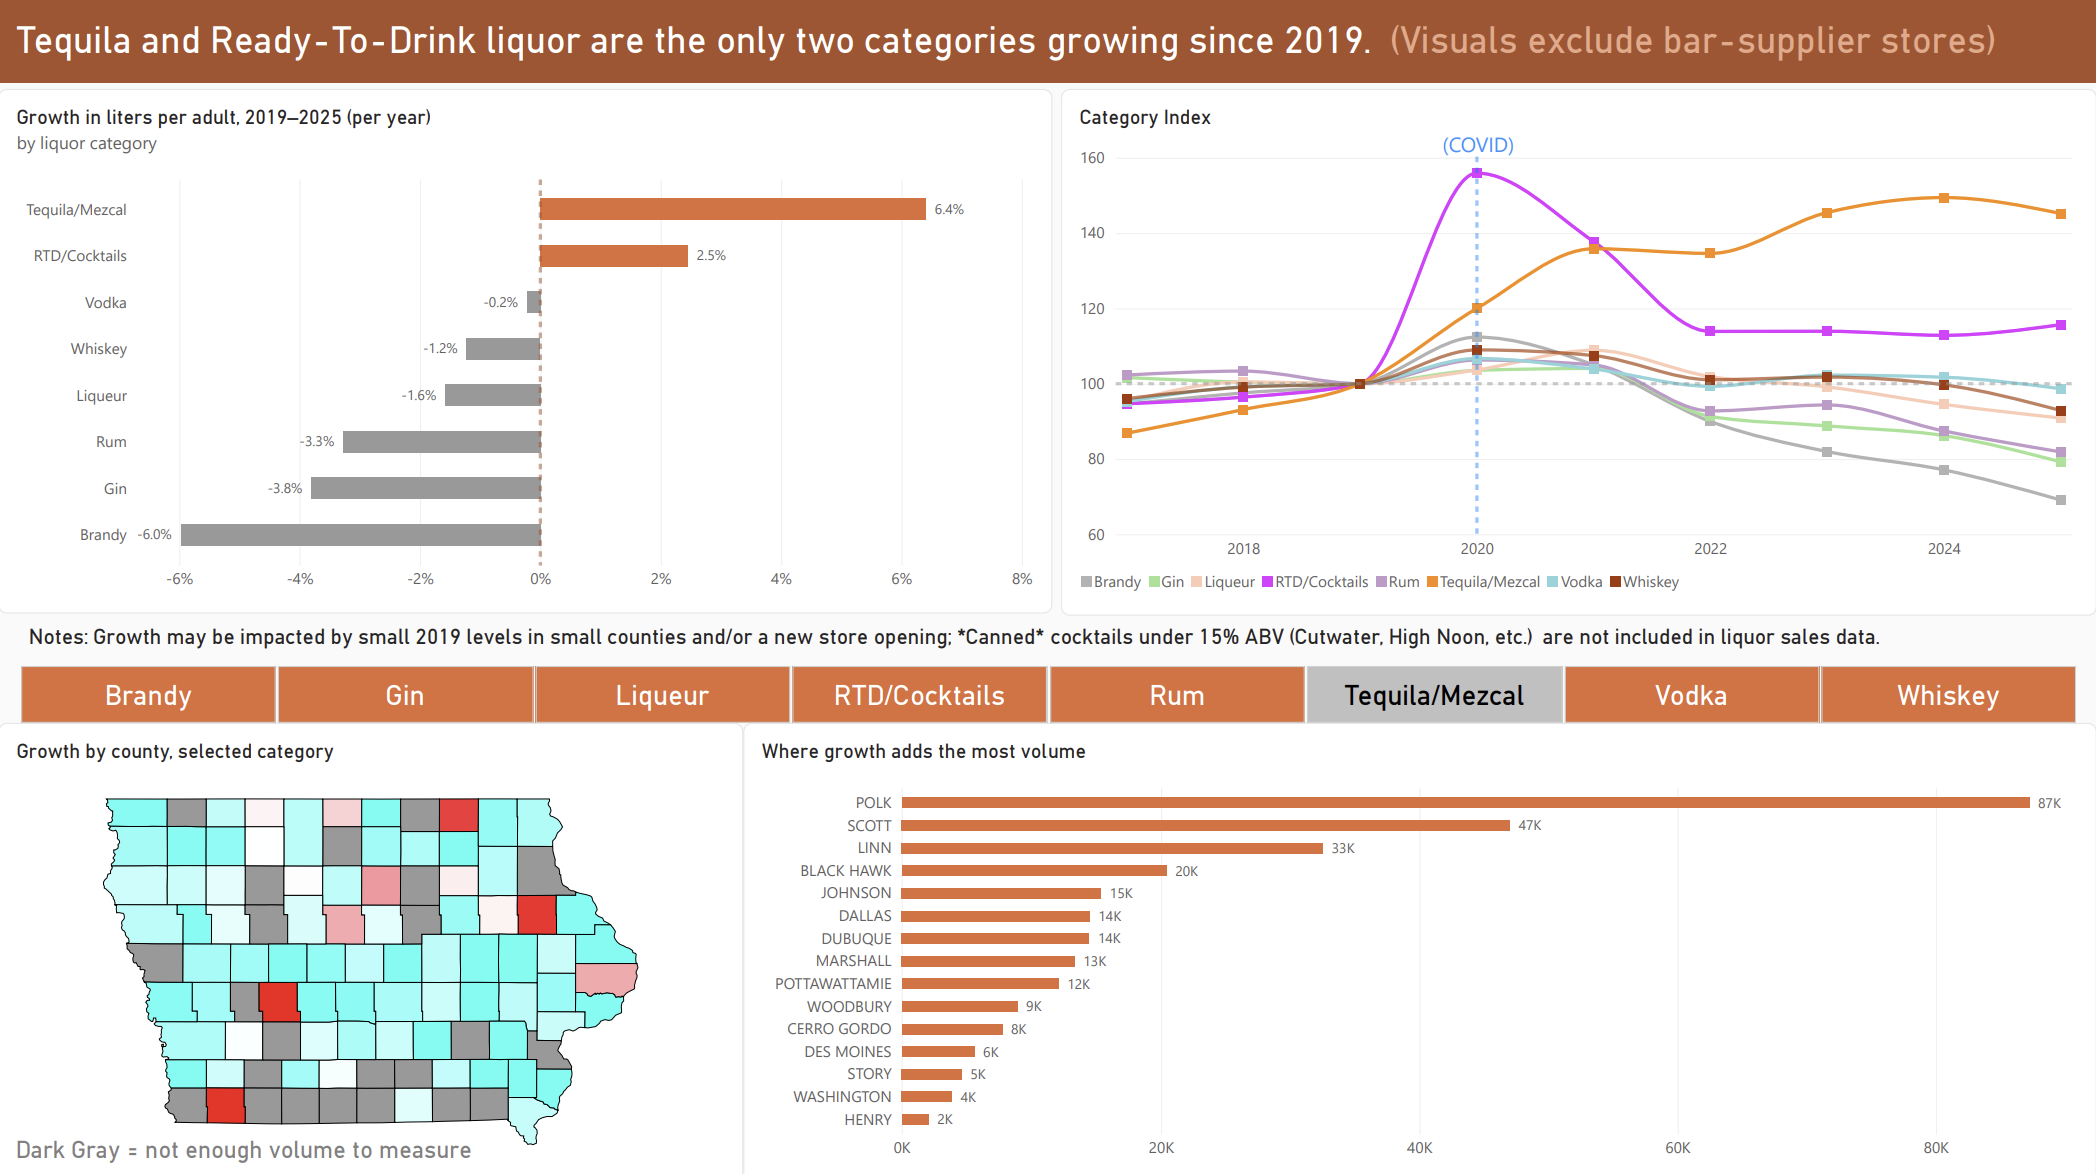

The page's visual inventory and layout, read from the dashboard file:
{"tool":"powerbi","page":{"name":"Growth","canvas":[1920,1080],"ordinal":1},"visuals":[{"type":"clusteredBarChart","title":"Growth in liters per adult, 2019–2025 (per year)","fields":{"Category":["county_category_year.family"],"Y":["_Measures.Family CAGR"]},"box":[0,82.2,963.8,480],"z":0},{"type":"lineChart","title":"Category Index","fields":{"Category":["Years.sale_year"],"Series":["county_category_year.family"],"Y":["_Measures.Family Index"]},"box":[972,82,948,482],"z":1000},{"type":"slicer","fields":{"Values":["growth_opportunities.family"]},"box":[0,608,1920,56],"z":2000},{"type":"shapeMap","title":"Growth by county, selected category","fields":{"Category":["growth_opportunities.county"],"Value":["Sum(growth_opportunities.cagr)"]},"box":[0,662,682,420],"z":3000},{"type":"textbox","box":[16,1040,610,40],"z":4000},{"type":"clusteredBarChart","title":"Where growth adds the most volume","fields":{"Category":["growth_opportunities.county"],"Y":["Sum(growth_opportunities.added_liters_vs_2019_rate)"]},"box":[682,662,1238,420],"z":5000},{"type":"shape","box":[0,0,1920,76],"z":6000},{"type":"textbox","box":[1262,120,184,34],"z":7000},{"type":"textbox","box":[28,572,1892,40],"z":8000},{"type":"textbox","box":[16,18,1904,58],"z":9000}]}

Visuals, with their boxes in screenshot pixels (x1, y1, x2, y2), scaled from the page's 1920x1080 canvas onto the 2096x1174 screenshot:
"Growth in liters per adult, 2019–2025 (per year)" clusteredBarChart: [x1=0, y1=89, x2=1052, y2=611]
"Category Index" lineChart: [x1=1061, y1=89, x2=2095, y2=613]
slicer - growth_opportunities.family: [x1=0, y1=661, x2=2095, y2=722]
"Growth by county, selected category" shapeMap: [x1=0, y1=720, x2=745, y2=1173]
textbox: [x1=17, y1=1131, x2=683, y2=1173]
"Where growth adds the most volume" clusteredBarChart: [x1=745, y1=720, x2=2095, y2=1173]
shape: [x1=0, y1=0, x2=2095, y2=83]
textbox: [x1=1378, y1=130, x2=1579, y2=167]
textbox: [x1=31, y1=622, x2=2095, y2=665]
textbox: [x1=17, y1=20, x2=2095, y2=83]
